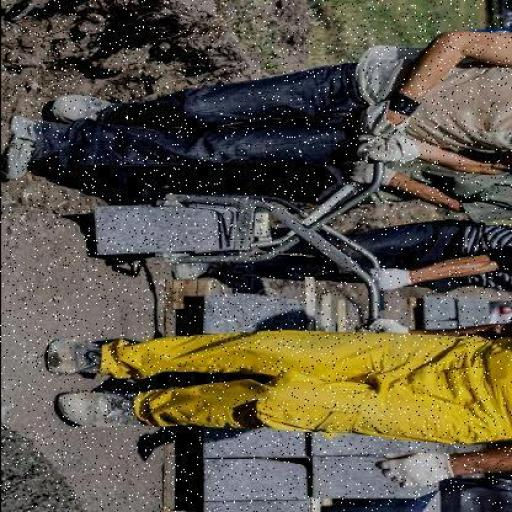safety_shoe: (36, 335, 122, 375), (58, 389, 132, 434), (1, 118, 41, 179), (51, 99, 121, 121)
